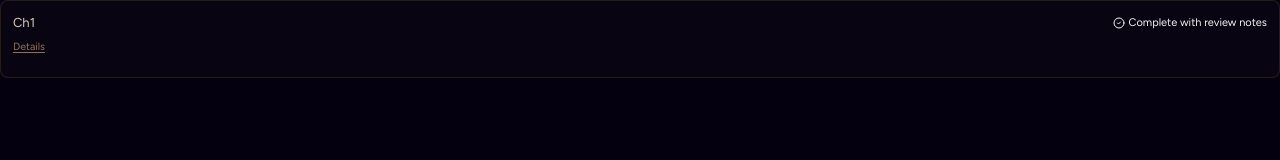
Test case: BookFactoryChapterReview — failed-chapter recovery › technical details (raw state, lastError, warning codes) are hidden until 'Details' is opened
Click the button with test id "bf-toggle-details-c1".
click(29, 46)  # box [13,38,45,54]
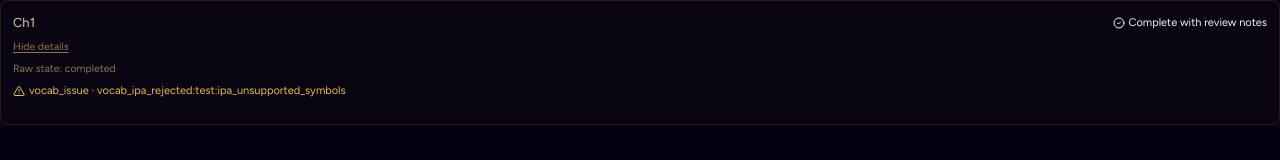
Result: the element with test id "bf-details-c1" is shown at [13,62,346,97]
Result: the element with test id "bf-details-c1" shows "vocab_ipa_rejected" at [89,84,346,97]
Click the button with test id "bf-toggle-details-c1".
click(41, 46)  # box [13,38,69,54]
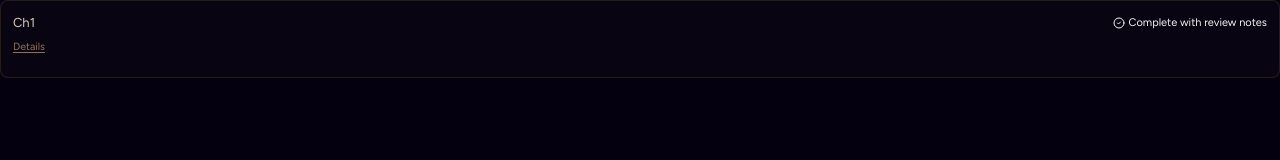
Result: the element with test id "bf-details-c1" is gone
